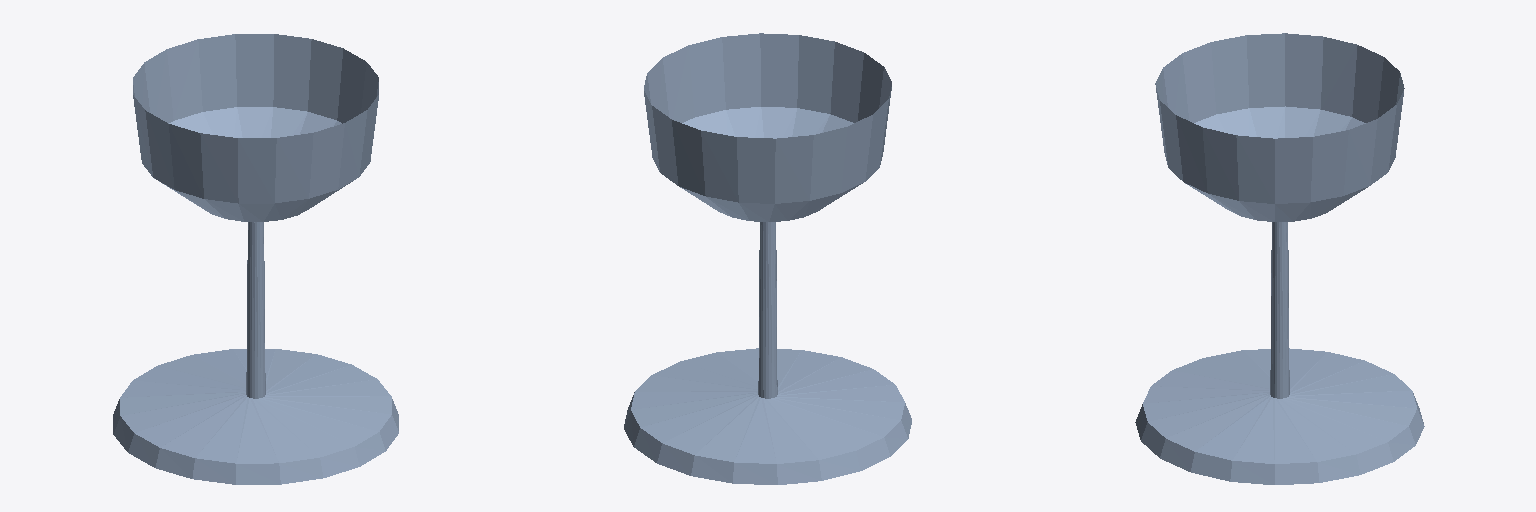
The model's file is cup.obj.
3 views of the same model, side by side, from view 1: azimuth 30°, elevation 25°; view 2: azimuth 150°, elevation 25°; view 3: azimuth 270°, elevation 25° (orthographic).
Parts seen in each view (by area): view 1: Plane; view 2: Plane; view 3: Plane.
Part boxes in pixels (x1,y1,x2,y2): Plane: (113, 34, 398, 484); Plane: (624, 33, 911, 484); Plane: (1135, 33, 1424, 484).
Bounding box in the file's own units: 3.27 × 4.23 × 3.27.